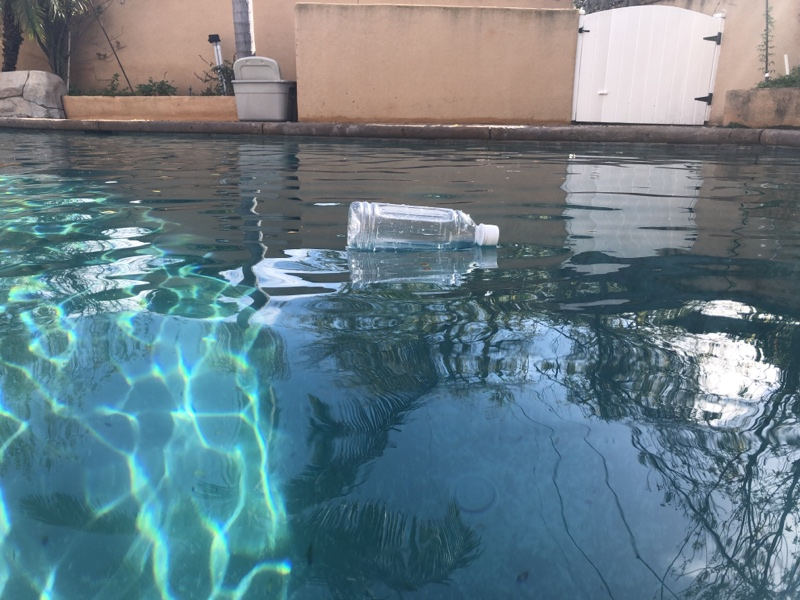Plastic Bottle: (344, 195, 503, 260)
